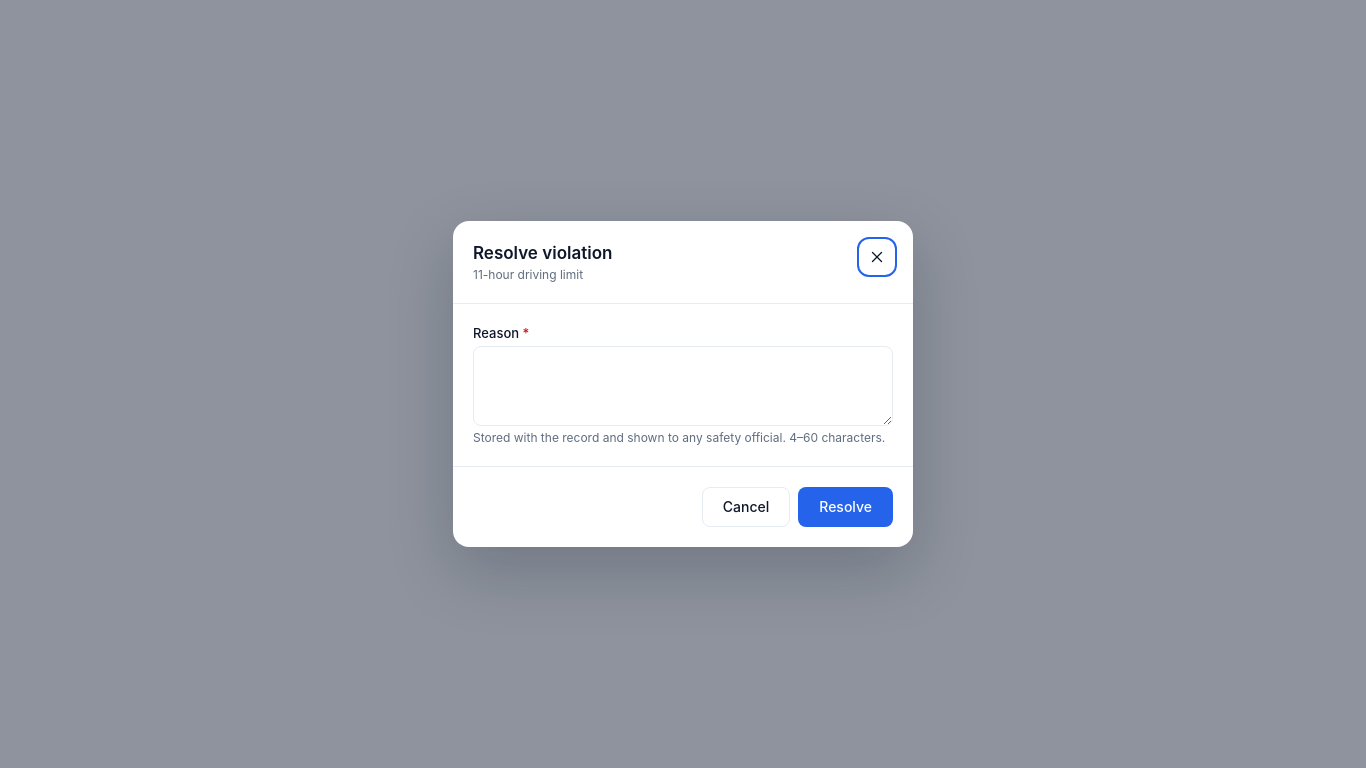
Test: ResolveViolationModal › shows a 409 refusal verbatim in the banner
The width and height of the screenshot is (1366, 768).
Step 1. Type "Dispatcher error, corrected." into the text box → (683, 386), box [473,346,893,426]
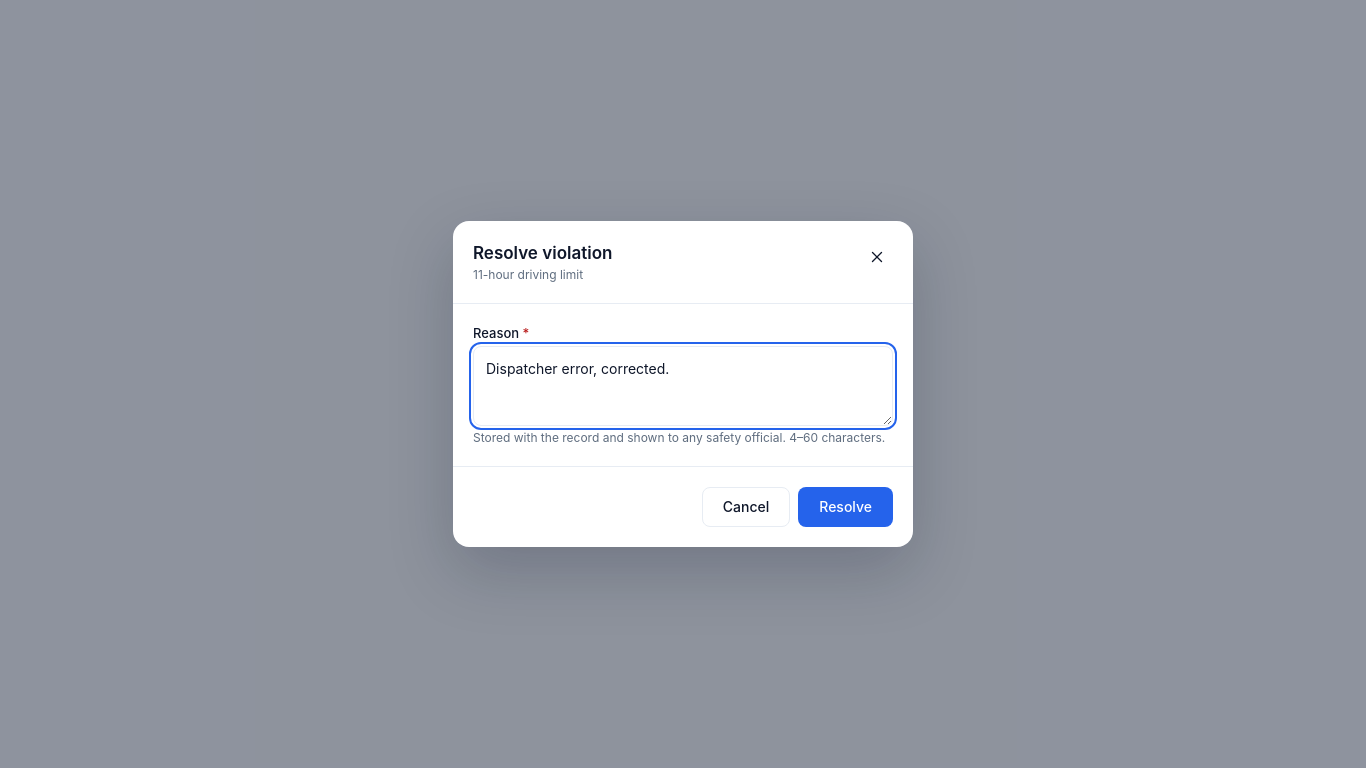
Step 2. Click the button "Resolve" → click(846, 507), box [798,487,893,527]
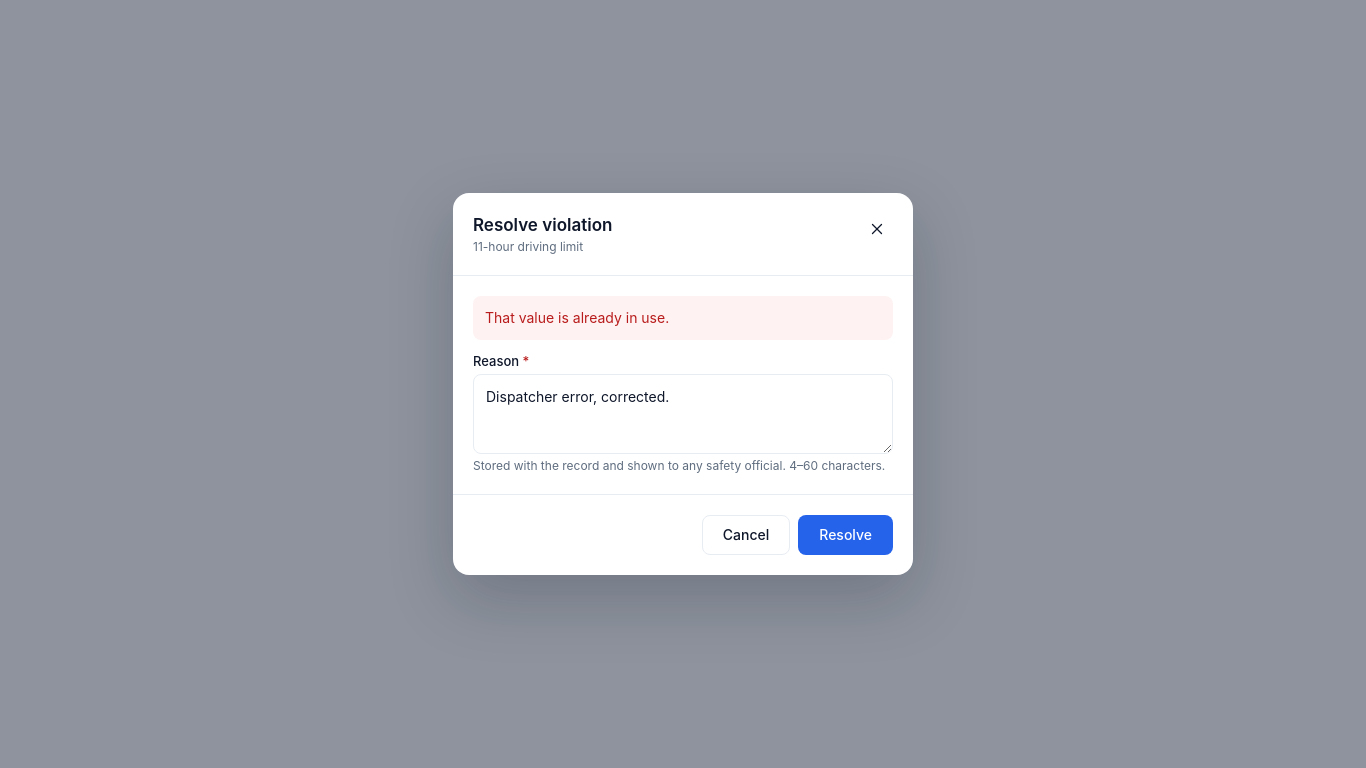
Expected: the message reads "That value is already in use.", [485,309,669,326]
